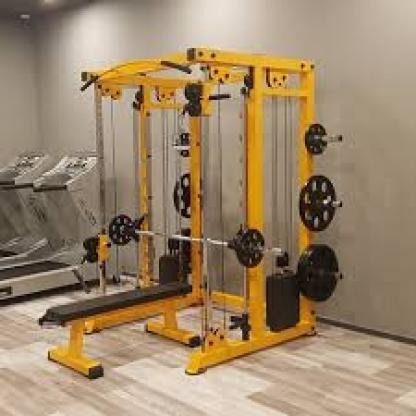smith machine: (80, 47, 348, 378)
